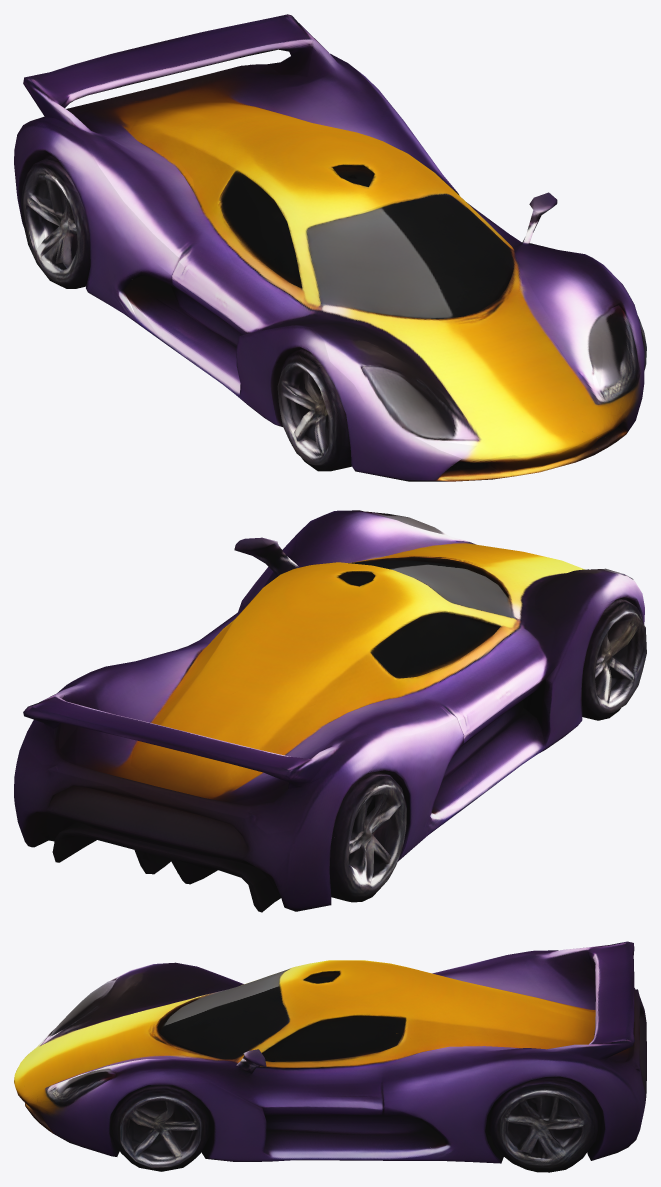
3 renders of one model, top to bottom at view 1: azimuth 30°, elevation 25°; view 2: azimuth 150°, elevation 25°; view 3: azimuth 270°, elevation 25°, orthographic. The views are drawn at different scales.
Parts seen in each view (by area): view 1: model; view 2: model; view 3: model.
Boxes of the visible parts, x1,y1,x2,y2 form: model: [14, 14, 646, 481]; model: [14, 510, 646, 912]; model: [14, 941, 646, 1172].
Size of the model in its own units: 0.8917 by 0.4669 by 1.9.
Materials: 1 (1 with a texture image).
